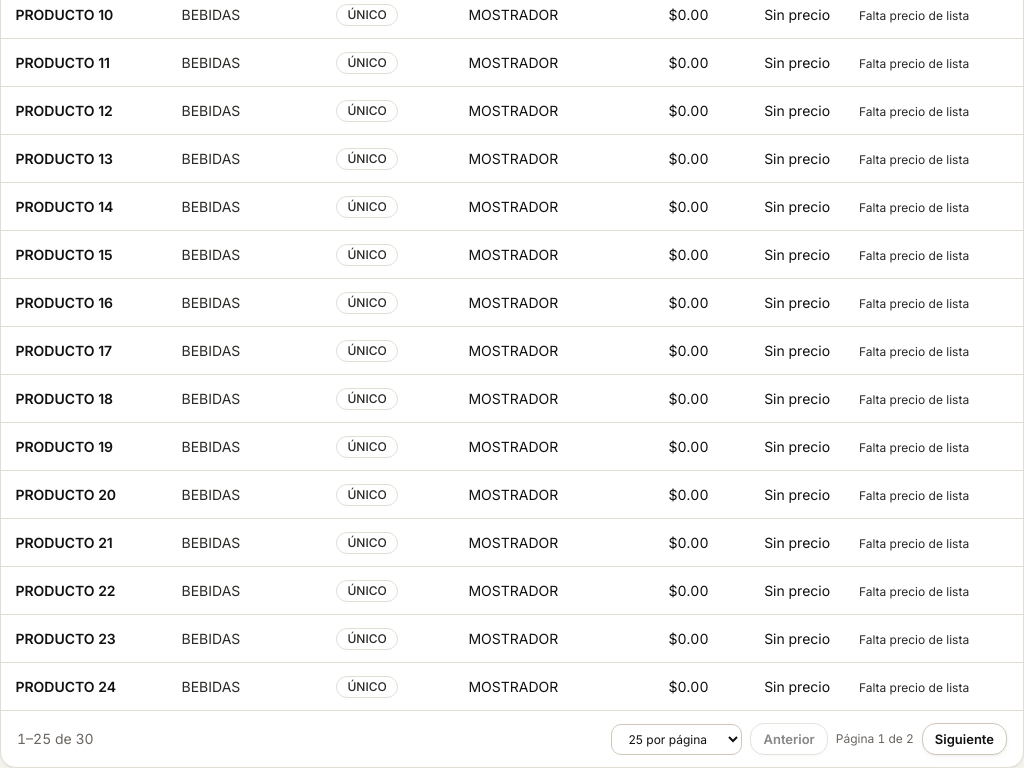
Test: incluye costo cero/sin precio, pagina todos los resultados y mantiene filtros en URL
This screenshot has width=1024, height=768.
(page scrolled)
Click the button "Siguiente".
click(964, 739)  # box [922,723,1007,755]
(page scrolled)
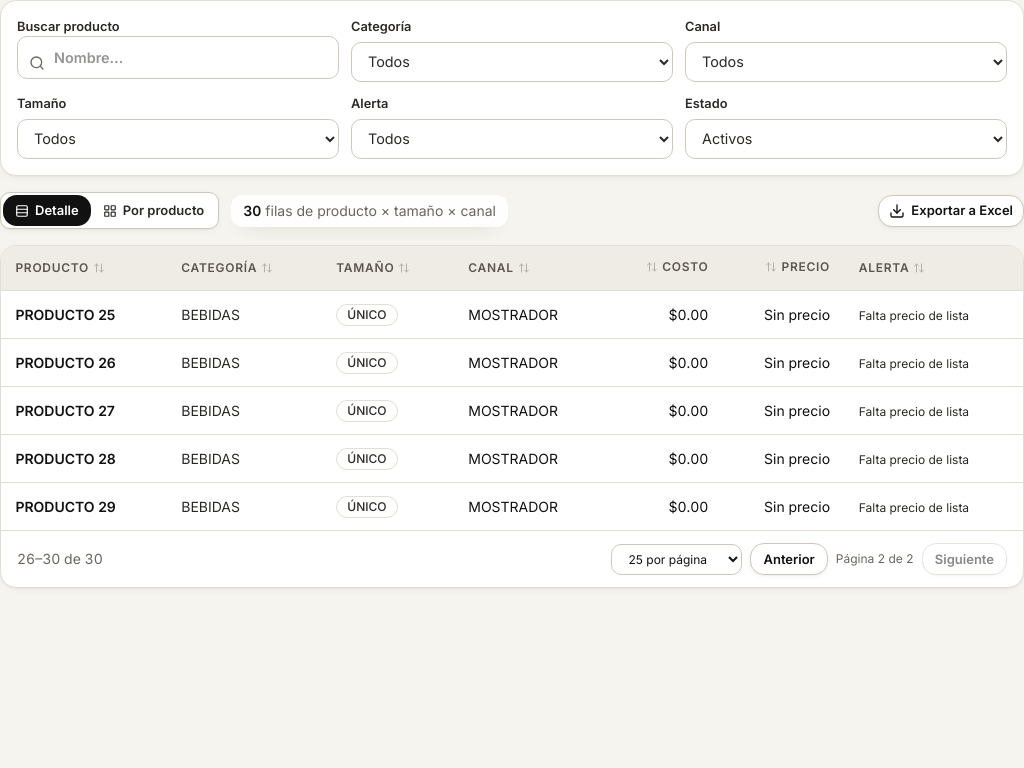
Expected: the link "PRODUCTO 29" is shown, [15,498,116,515]
Select "BEBIDAS" in the dropdown labelled "Categoría" at (512, 62), box [351,42,673,82]
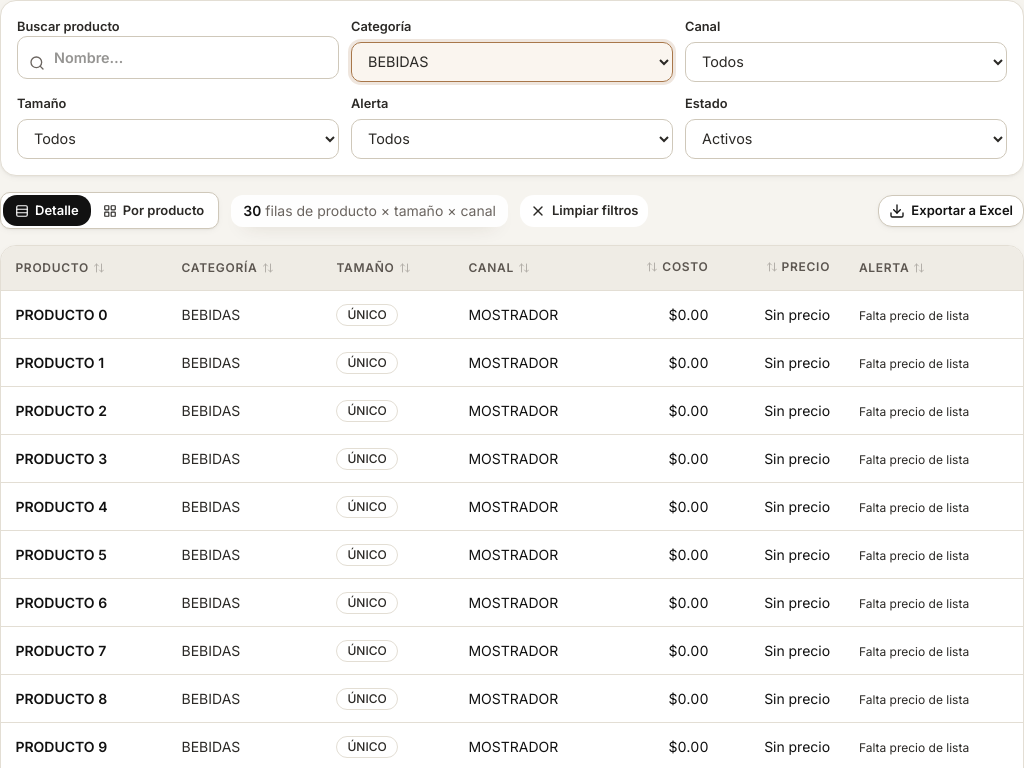
Type "Producto 29" into the field labelled "Buscar producto".
click(178, 58); type("Producto 29")  # box [17,36,339,79]
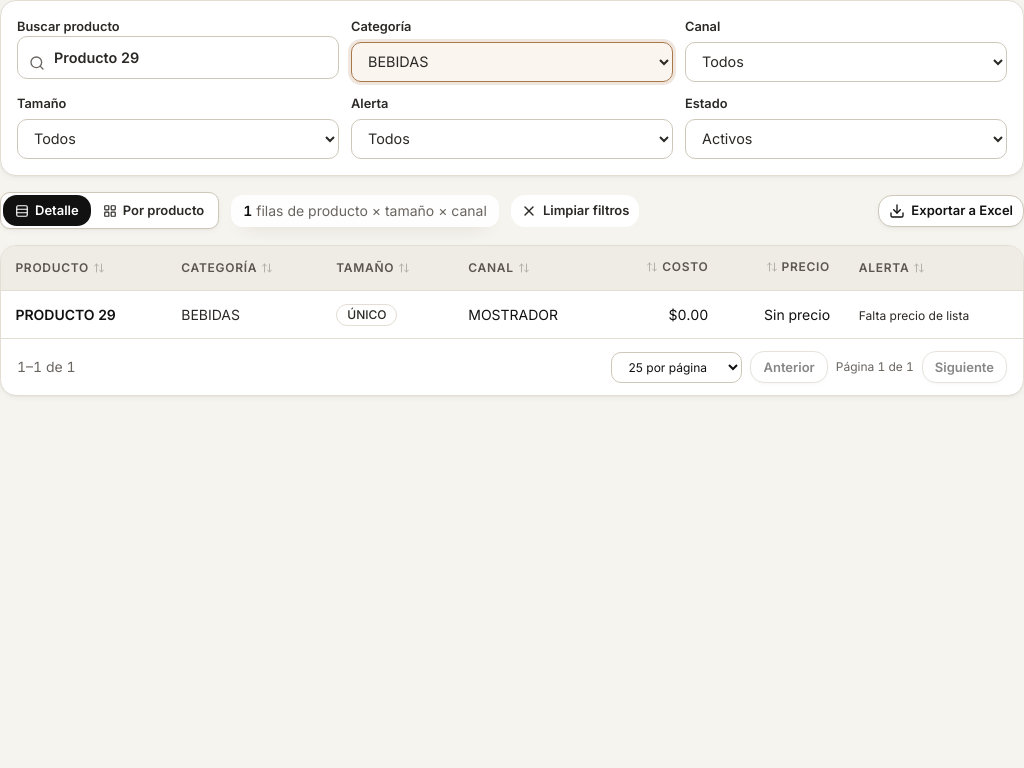
Expected: the number of links is 1, [15,306,116,323]
